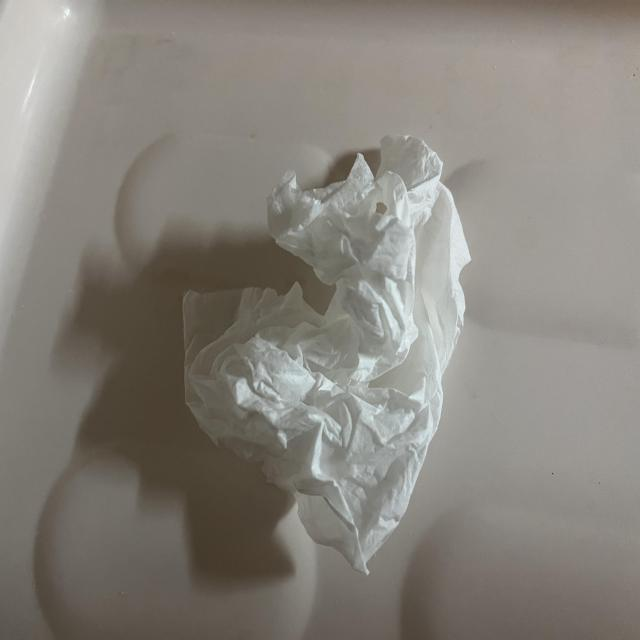Paper: (184, 123, 483, 591)
